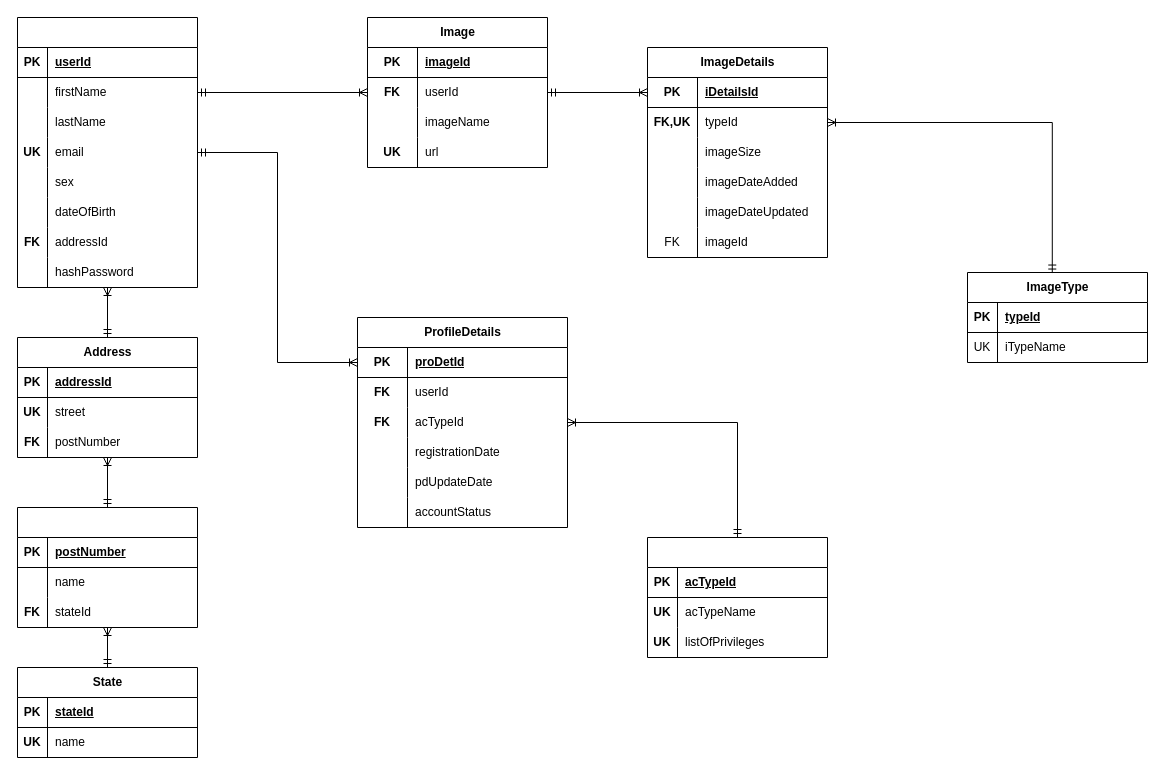
The diagram is 1165 pixels wide and 775 high, and some of its shapes have lost their labels. The box of each missing label's shape, as (x1, y1, x2, y2) in pixels:
AccountType: (646, 536, 828, 658)
City: (16, 506, 198, 628)
Profile: (16, 16, 198, 288)
